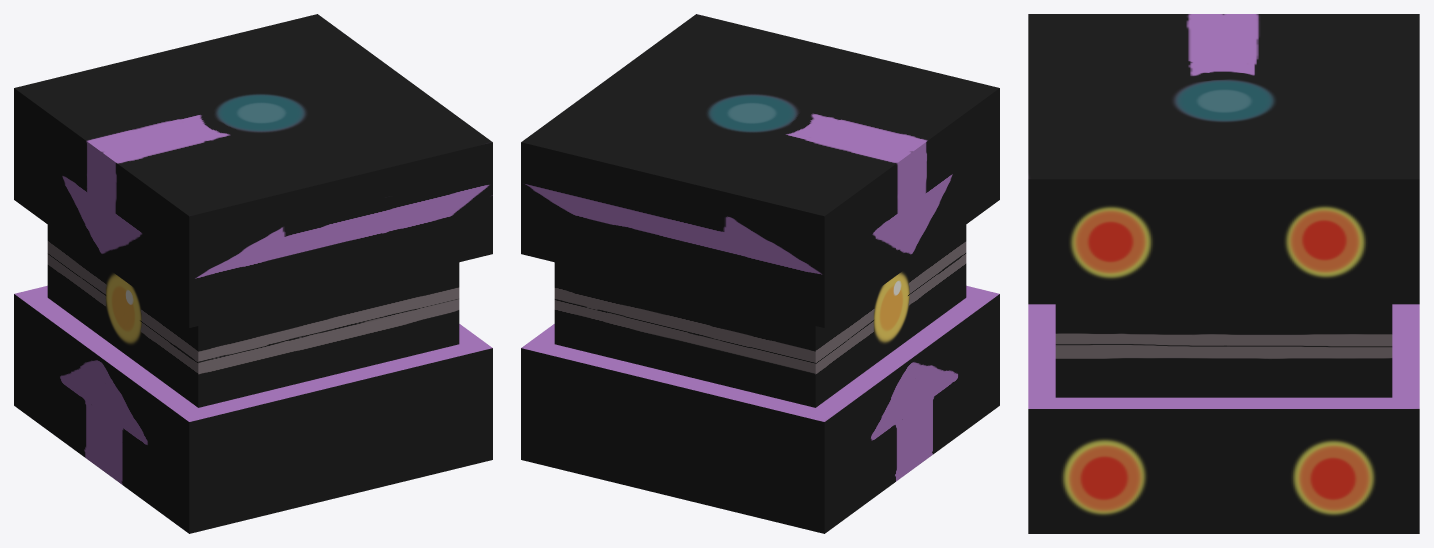
File: player4.obj
3 views of the same model, side by side, from view 1: azimuth 30°, elevation 25°; view 2: azimuth 150°, elevation 25°; view 3: azimuth 270°, elevation 25° (orthographic). The views are drawn at different scales.
Visible parts, largest first — view 1: 立方体.001; view 2: 立方体.001; view 3: 立方体.001.
Boxes of the visible parts, left/top/right/bottom form: 立方体.001: left=14, top=14, right=492, bottom=533; 立方体.001: left=521, top=14, right=999, bottom=533; 立方体.001: left=1028, top=14, right=1419, bottom=533.
Size of the model in its own units: 2 by 2 by 2.
Materials: 1 (1 with a texture image).
